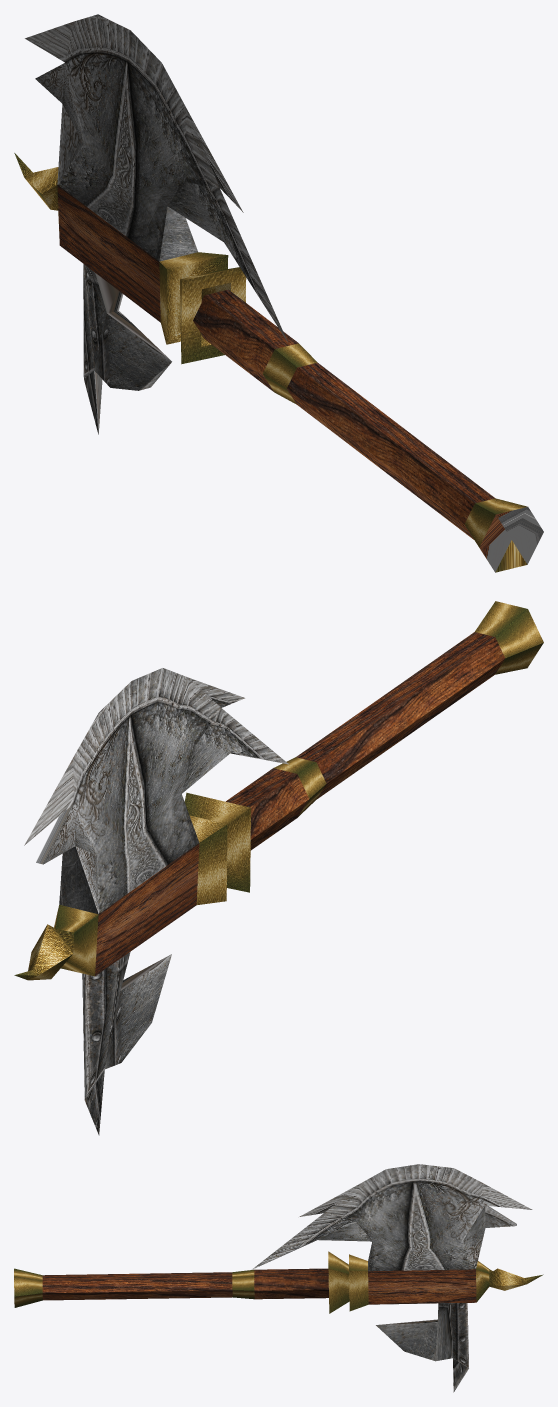
File: mm9_deco_battlewitchp89.glb
The picture shows the model from 3 angles, top to bottom: view 1: azimuth 30°, elevation 25°; view 2: azimuth 150°, elevation 25°; view 3: azimuth 270°, elevation 25°; orthographic projection. The views are drawn at different scales.
Parts seen in each view (by area): view 1: Battlewitchp89; view 2: Battlewitchp89; view 3: Battlewitchp89.
Part boxes in pixels (bbox=[...]): Battlewitchp89: bbox=[14, 14, 543, 572]; Battlewitchp89: bbox=[14, 601, 543, 1135]; Battlewitchp89: bbox=[14, 1164, 543, 1392].
Bounding box in the file's own units: 0.0915 × 0.5544 × 1.16.
Materials: 2 (2 with a texture image).
